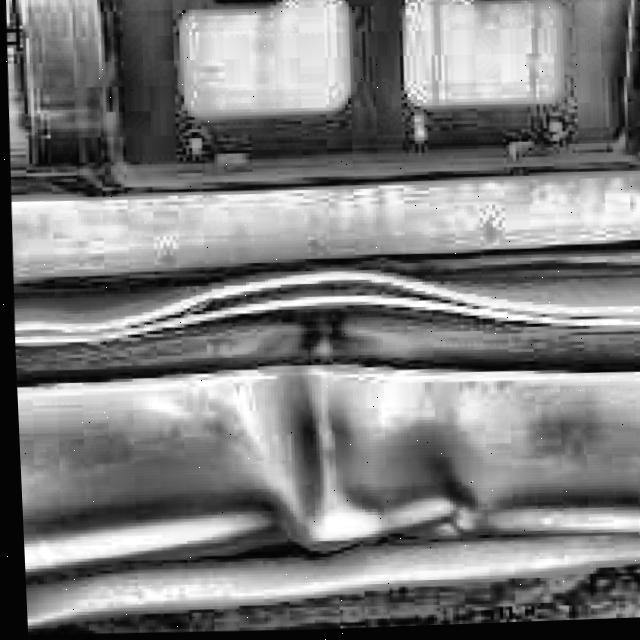bumper_dent: (252, 349, 488, 557)
